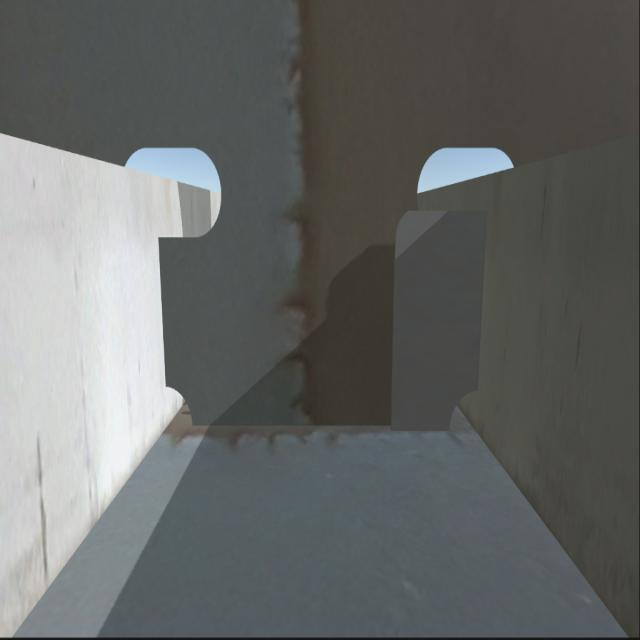fillet_hole: (159, 380, 202, 432), (446, 390, 484, 434)
fillet_yong_jeop_jang: (193, 426, 445, 432)
longi_yong_jeop_jang: (153, 239, 169, 384), (475, 216, 485, 378)
plate_CP05: (391, 206, 483, 437)
